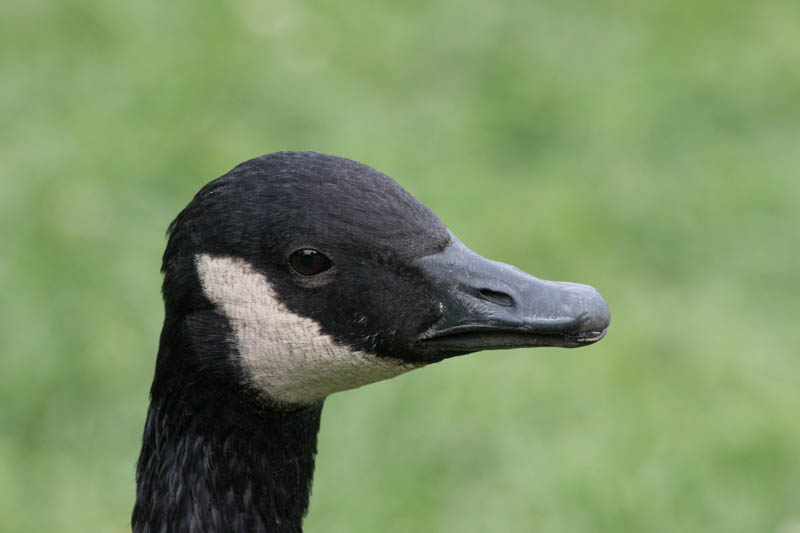goose-head: (160, 151, 612, 413)
